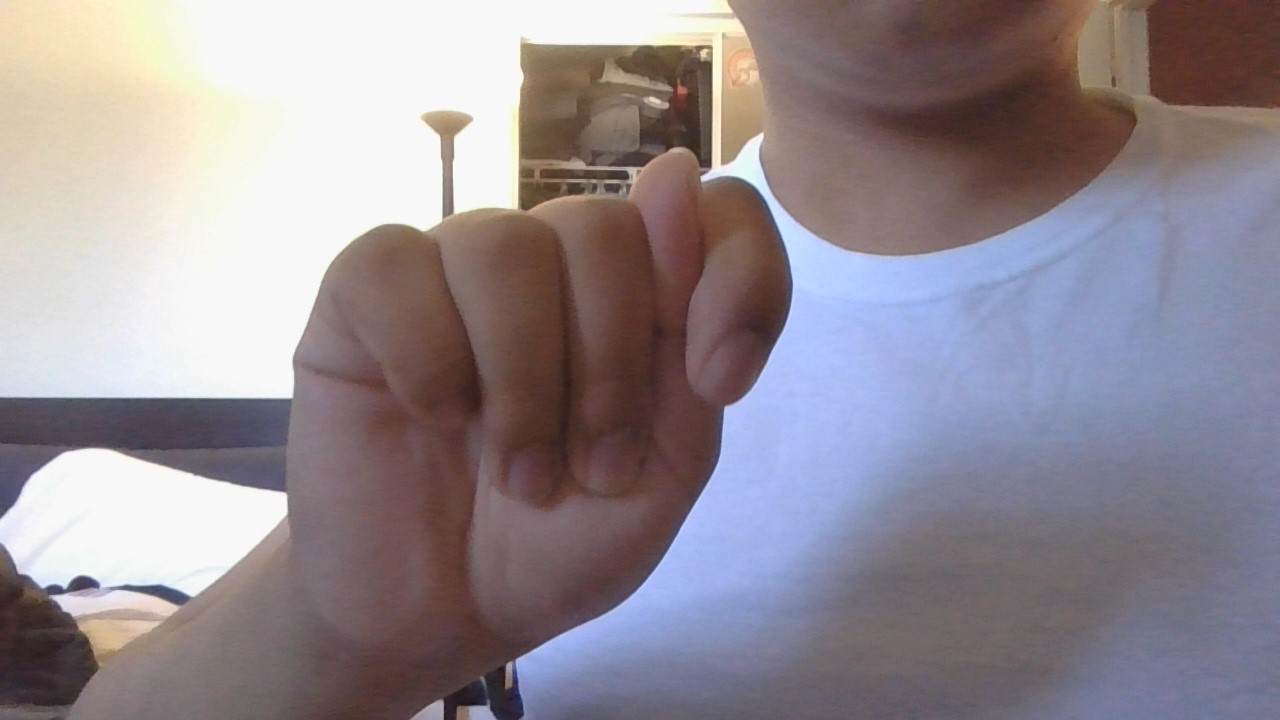t: (254, 137, 808, 695)
